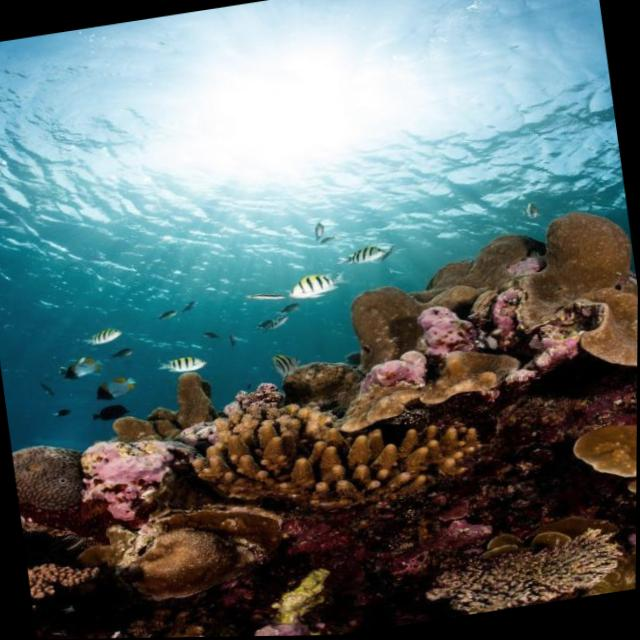Healthy Coral: (175, 377, 504, 527), (489, 207, 639, 394), (404, 521, 625, 624), (330, 331, 525, 435), (562, 421, 638, 508)
